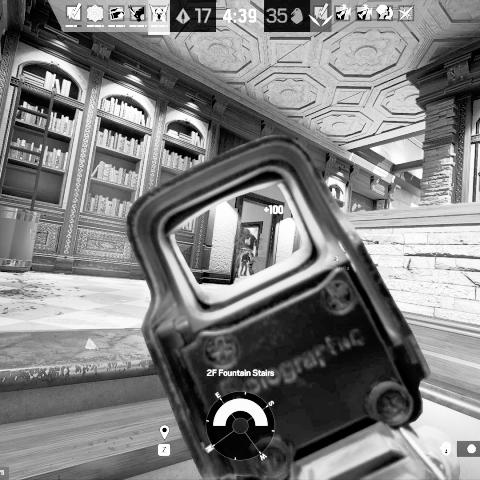Character: (235, 228, 258, 278)
